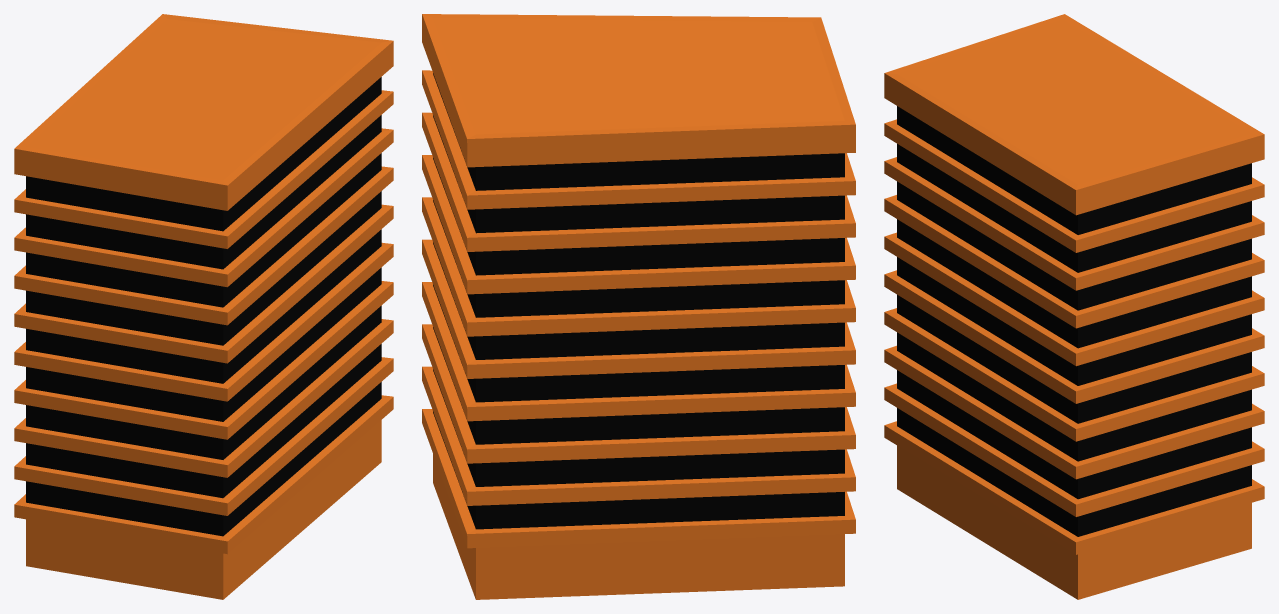
The model's file is Skyscraper_04.fbx.
The picture shows the model from 3 angles, left to right: view 1: azimuth 30°, elevation 25°; view 2: azimuth 150°, elevation 25°; view 3: azimuth 270°, elevation 25°; orthographic projection. The views are drawn at different scales.
Parts seen in each view (by area): view 1: Building_19; view 2: Building_19; view 3: Building_19.
Part boxes in pixels (<box>): Building_19: <box>14,14,393,599</box>; Building_19: <box>422,14,855,599</box>; Building_19: <box>884,14,1264,599</box>.
Bounding box in the file's own units: 7489 × 7977 × 6471.
